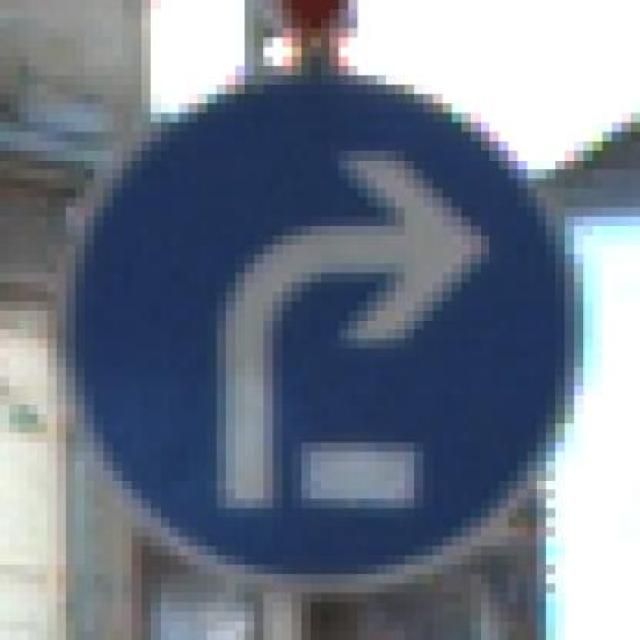Turn right ahead: (56, 66, 593, 583)
